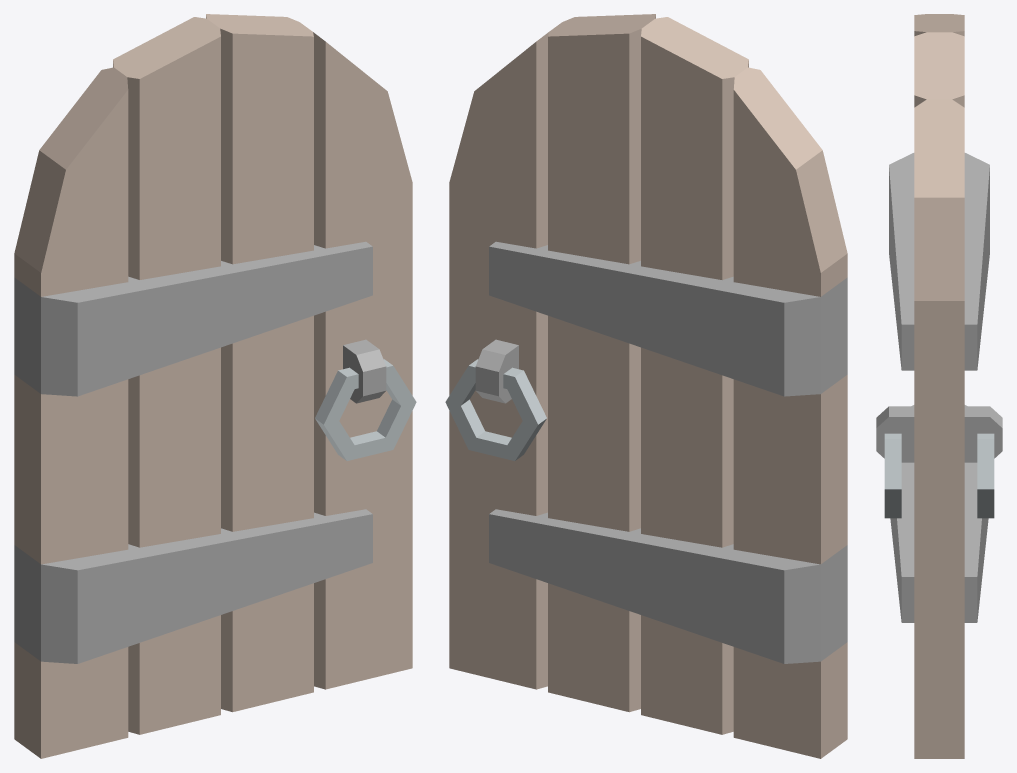
File: woodenDoor.glb
3 views of the same model, side by side, from view 1: azimuth 30°, elevation 25°; view 2: azimuth 150°, elevation 25°; view 3: azimuth 270°, elevation 25° (orthographic). The views are drawn at different scales.
Parts seen in each view (by area): view 1: object6; view 2: object6; view 3: object6.
Boxes of the visible parts, bbox=[...] form: object6: bbox=[14, 14, 416, 758]; object6: bbox=[445, 14, 847, 758]; object6: bbox=[876, 14, 1002, 758].
Bounding box in the file's own units: 0.8 × 1.4 × 0.25.
